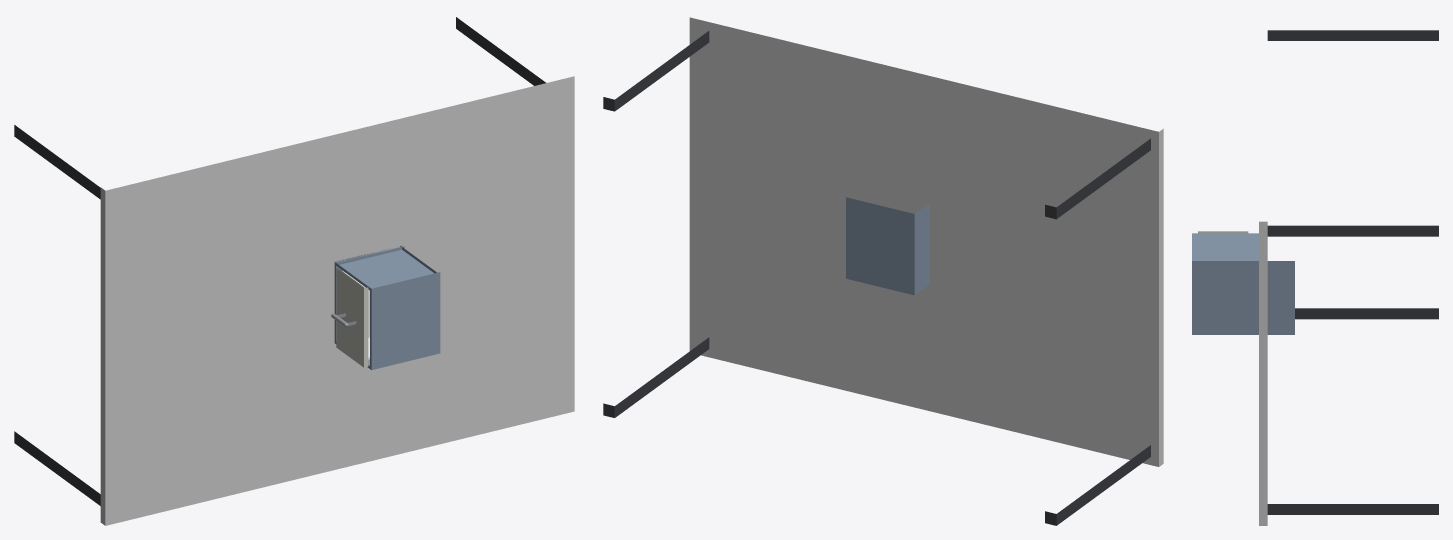
3 views of the same model, side by side, from view 1: azimuth 30°, elevation 25°; view 2: azimuth 150°, elevation 25°; view 3: azimuth 270°, elevation 25° (orthographic). The views are drawn at different scales.
Visible parts, largest first — view 1: s0, s1, s2; view 2: s0, s1; view 3: s0, s1.
Part boxes in pixels (x1,y1,x2,y2): s0: (14, 17, 574, 525); s1: (334, 245, 440, 370); s2: (331, 268, 369, 367); s0: (603, 17, 1163, 525); s1: (846, 197, 929, 295); s0: (1259, 30, 1438, 525); s1: (1192, 233, 1294, 334).
Size of the model in its own units: 2.05 by 1.4 by 1.03.
